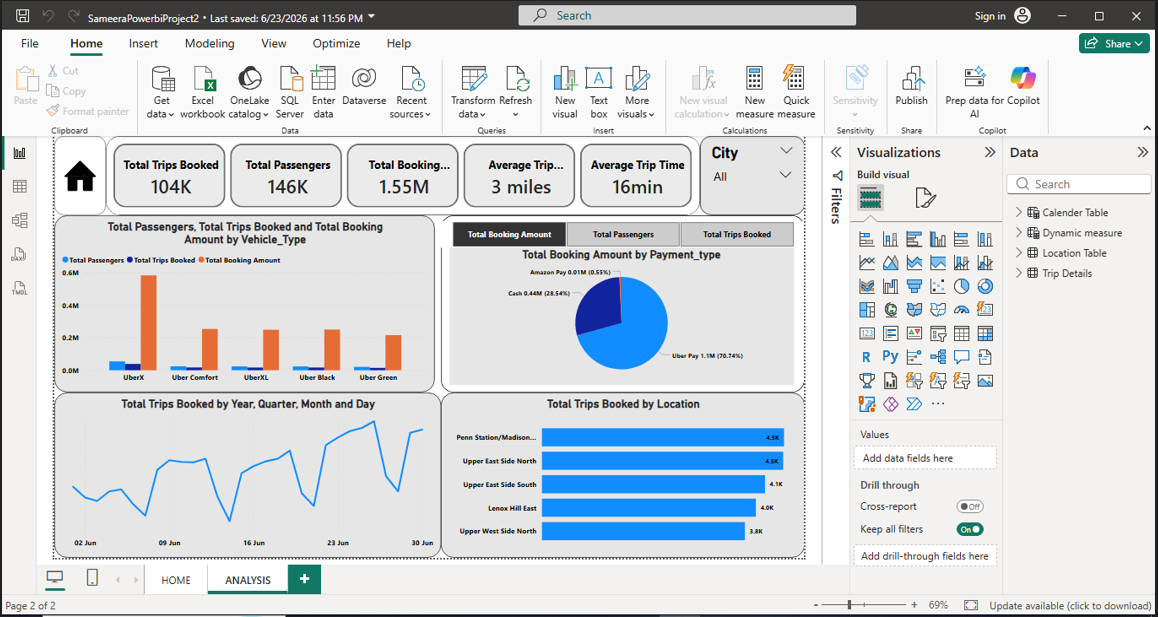

What the dashboard file says about the page in this screenshot:
{"tool":"powerbi","page":{"name":"ANALYSIS ","canvas":[1280,720],"ordinal":1},"visuals":[{"type":"shape","box":[659.5,135.4,620.6,302.4],"z":0},{"type":"cardVisual","fields":{"Data":["Trip Details.Total Trips Booked","Trip Details.Total Passengers","Trip Details.Total Booking Amount","Trip Details.Average Trip Distance","Trip Details.Average Trip Time"]},"box":[87.8,0,1013.8,135.4],"z":1000},{"type":"image","box":[0,0,87.8,135.4],"z":2000},{"type":"slicer","fields":{"Values":["Dynamic measure.Dynamic measure"]},"box":[659.5,145.4,620.6,44.6],"z":3000},{"type":"pieChart","fields":{"Y":["Trip Details.Total Booking Amount"],"Category":["Trip Details.Payment_type"]},"box":[673.9,190.1,587.5,234.7],"z":4000},{"type":"clusteredColumnChart","fields":{"Category":["Trip Details.Vehicle_Type"],"Y":["Trip Details.Total Passengers","Trip Details.Total Trips Booked","Trip Details.Total Booking Amount"]},"box":[0,135.4,649.4,302.4],"z":5000},{"type":"lineChart","fields":{"Category":["Calender Table.Date.Variation.Date Hierarchy.Year","Calender Table.Date.Variation.Date Hierarchy.Quarter","Calender Table.Date.Variation.Date Hierarchy.Month","Calender Table.Date.Variation.Date Hierarchy.Day"],"Y":["Trip Details.Total Trips Booked"]},"box":[0,437.8,659.5,282.2],"z":6000},{"type":"clusteredBarChart","fields":{"Category":["Location Table.Location"],"Y":["Trip Details.Total Trips Booked"]},"box":[659.5,437.8,620.6,282.2],"z":7000},{"type":"slicer","fields":{"Values":["Location Table.City"]},"box":[1101.6,0,178.6,135.4],"z":9000}]}

Visuals, with their boxes on the page's 1280x720 design canvas (x1, y1, x2, y2). These are canvas units, not pixel positions in the 1158x617 screenshot, which may show the page scaled, cropped or inside an application window:
shape: [x1=660, y1=135, x2=1280, y2=438]
cardVisual - Trip Details.Total Trips Booked x Trip Details.Total Passengers: [x1=88, y1=0, x2=1102, y2=135]
image: [x1=0, y1=0, x2=88, y2=135]
slicer - Dynamic measure.Dynamic measure: [x1=660, y1=145, x2=1280, y2=190]
pieChart - Trip Details.Total Booking Amount x Trip Details.Payment_type: [x1=674, y1=190, x2=1261, y2=425]
clusteredColumnChart - Trip Details.Vehicle_Type x Trip Details.Total Passengers: [x1=0, y1=135, x2=649, y2=438]
lineChart - Calender Table.Date.Variation.Date Hierarchy.Year x Calender Table.Date.Variation.Date Hierarchy.Quarter: [x1=0, y1=438, x2=660, y2=720]
clusteredBarChart - Location Table.Location x Trip Details.Total Trips Booked: [x1=660, y1=438, x2=1280, y2=720]
slicer - Location Table.City: [x1=1102, y1=0, x2=1280, y2=135]
